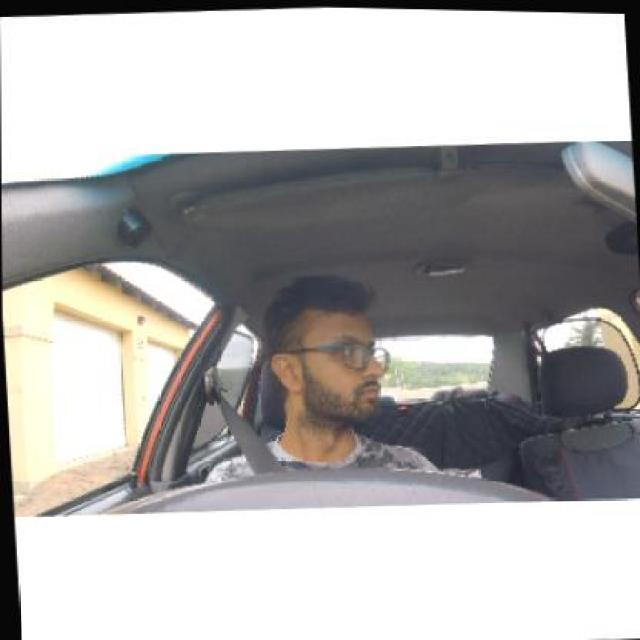LeftRight: (246, 262, 416, 464)
